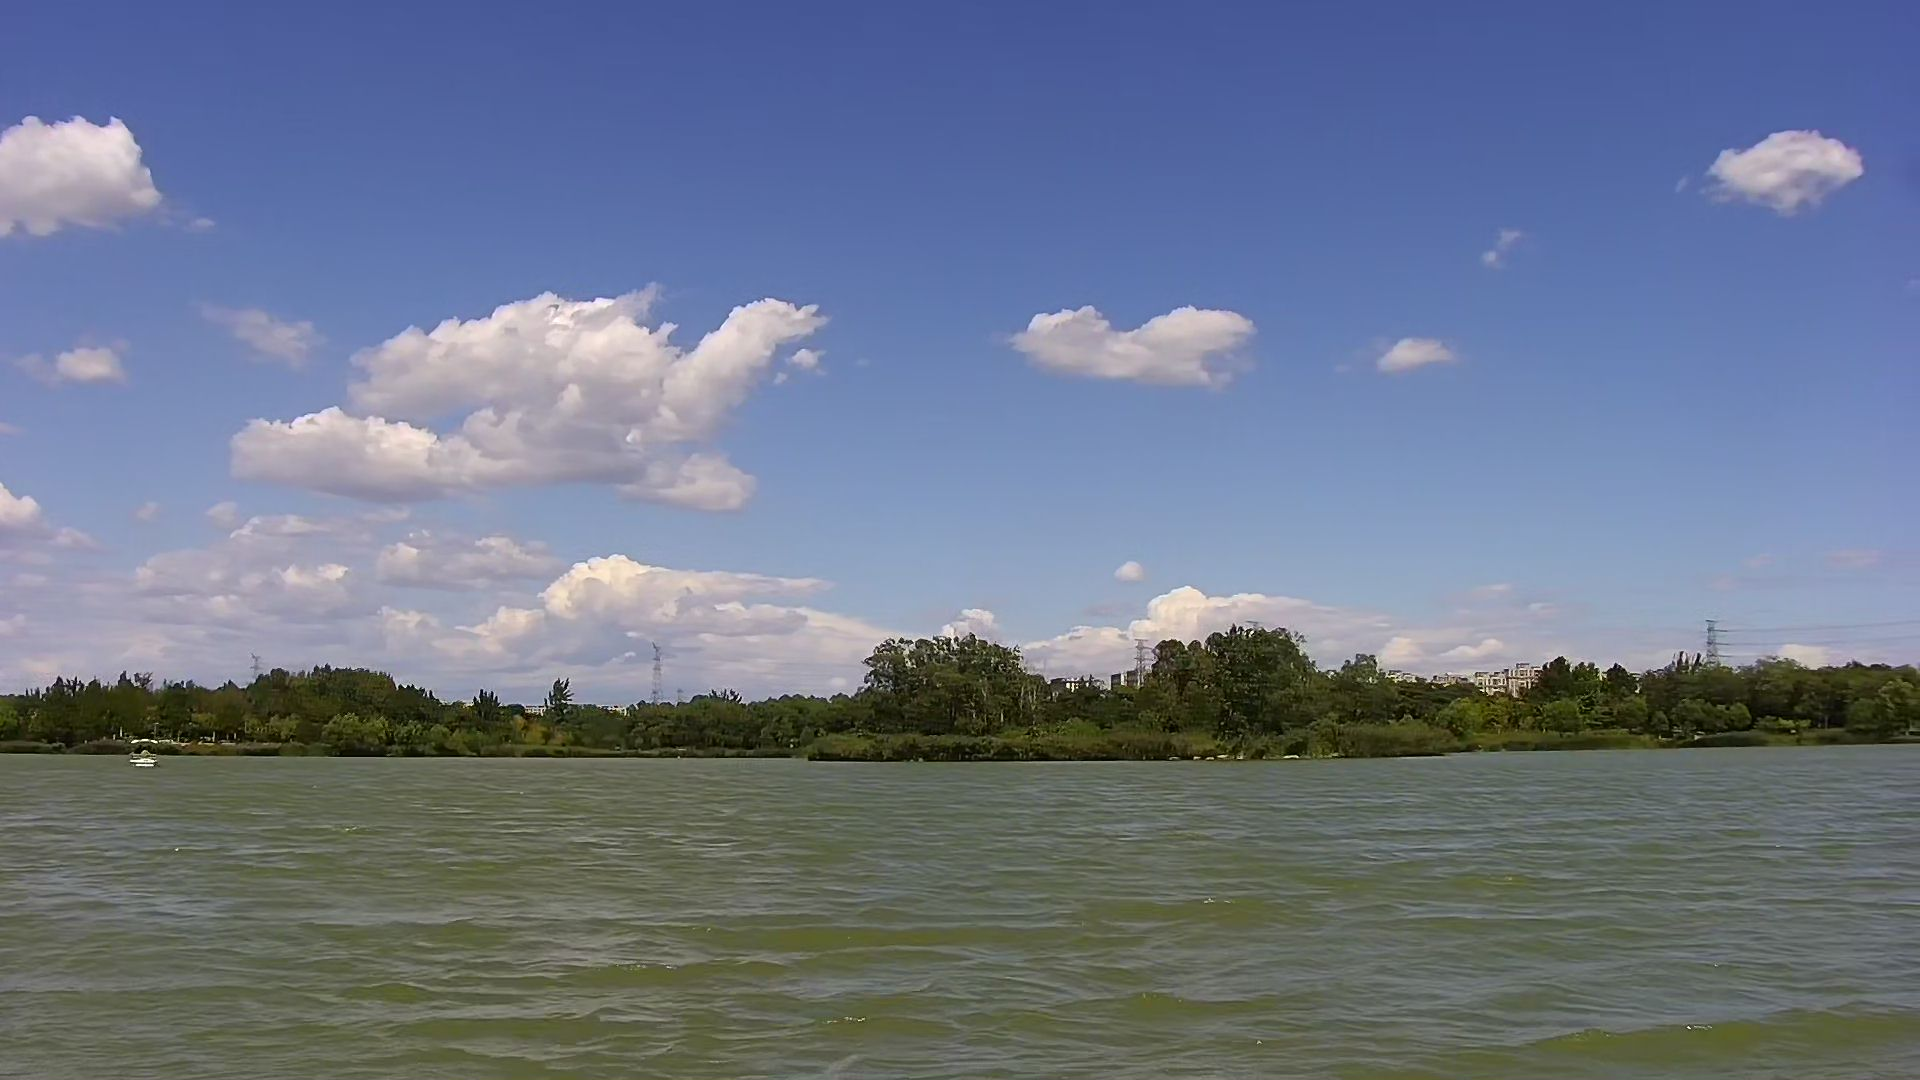boat: (117, 736, 165, 786)
